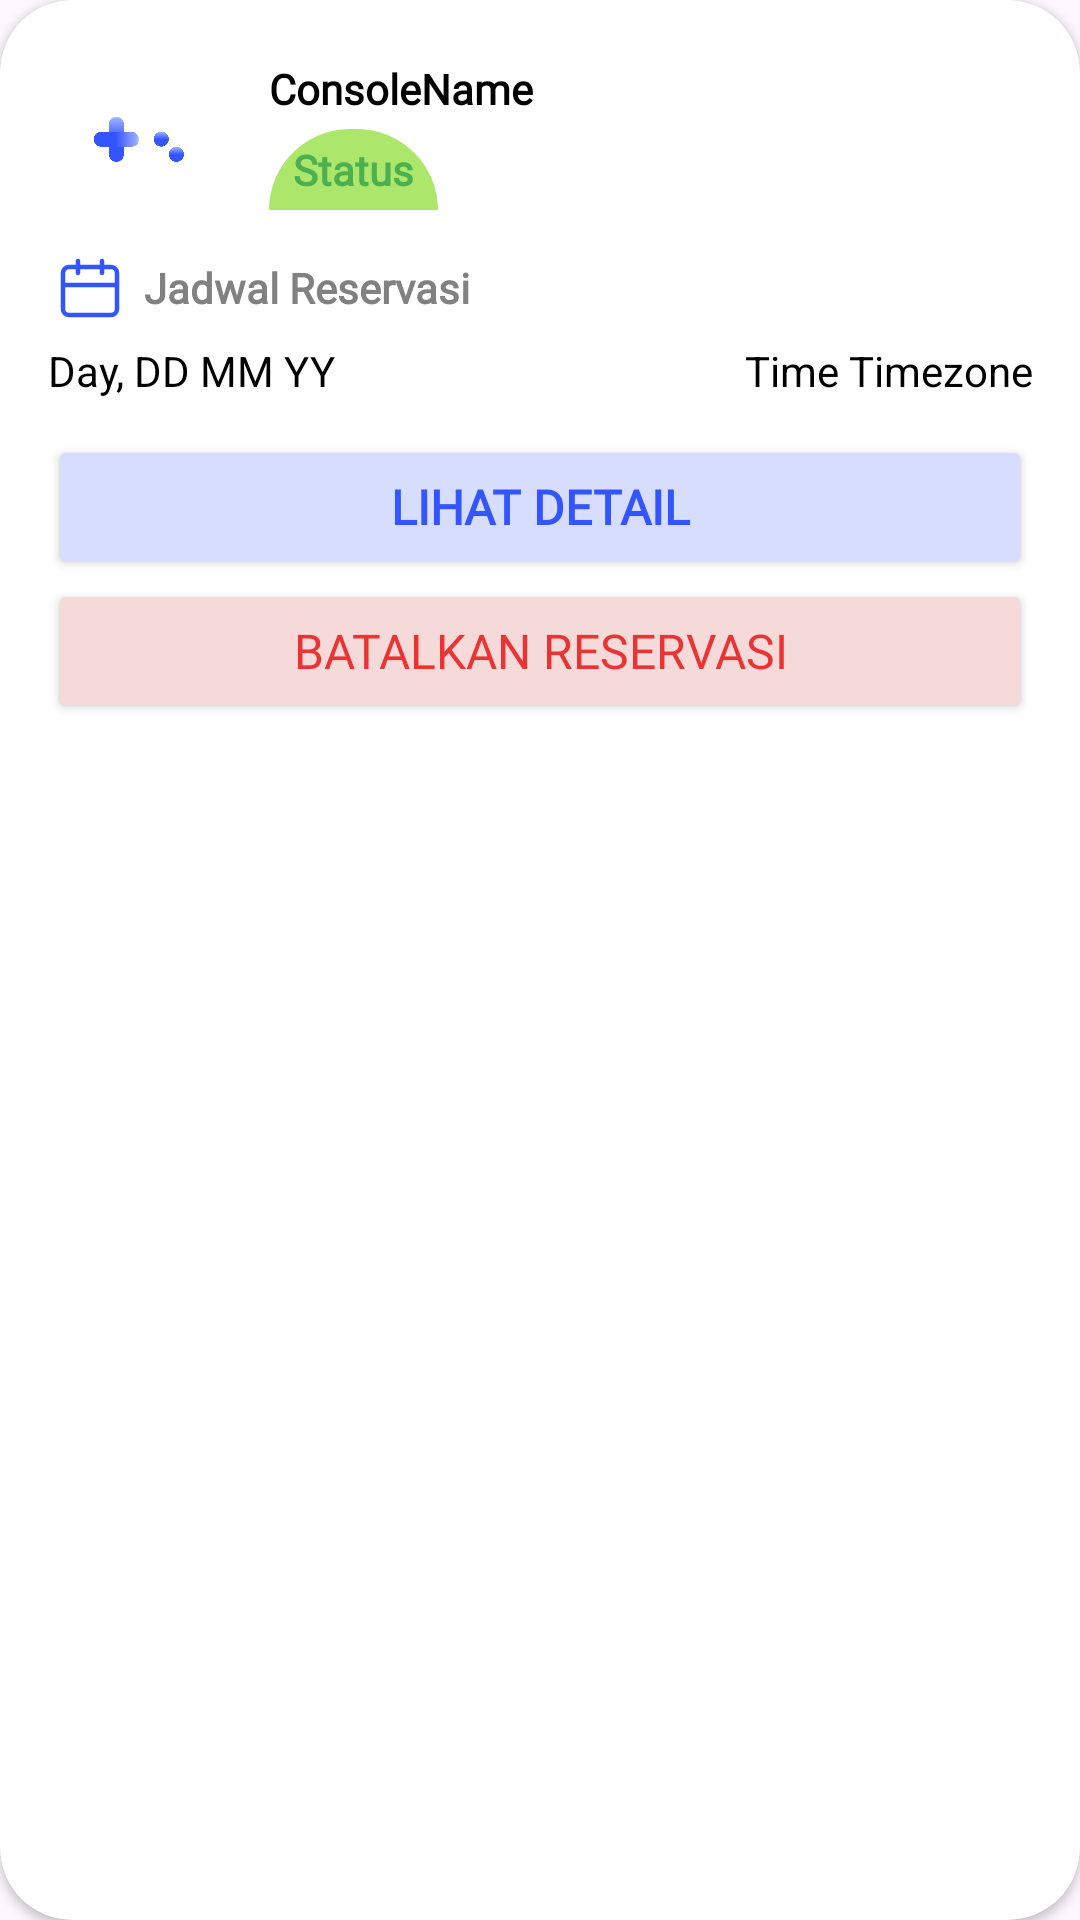

Where icons sit on this 1080*1920 app screen, as (x1, y1, x2, y2):
calendar: (60, 258, 120, 318)
